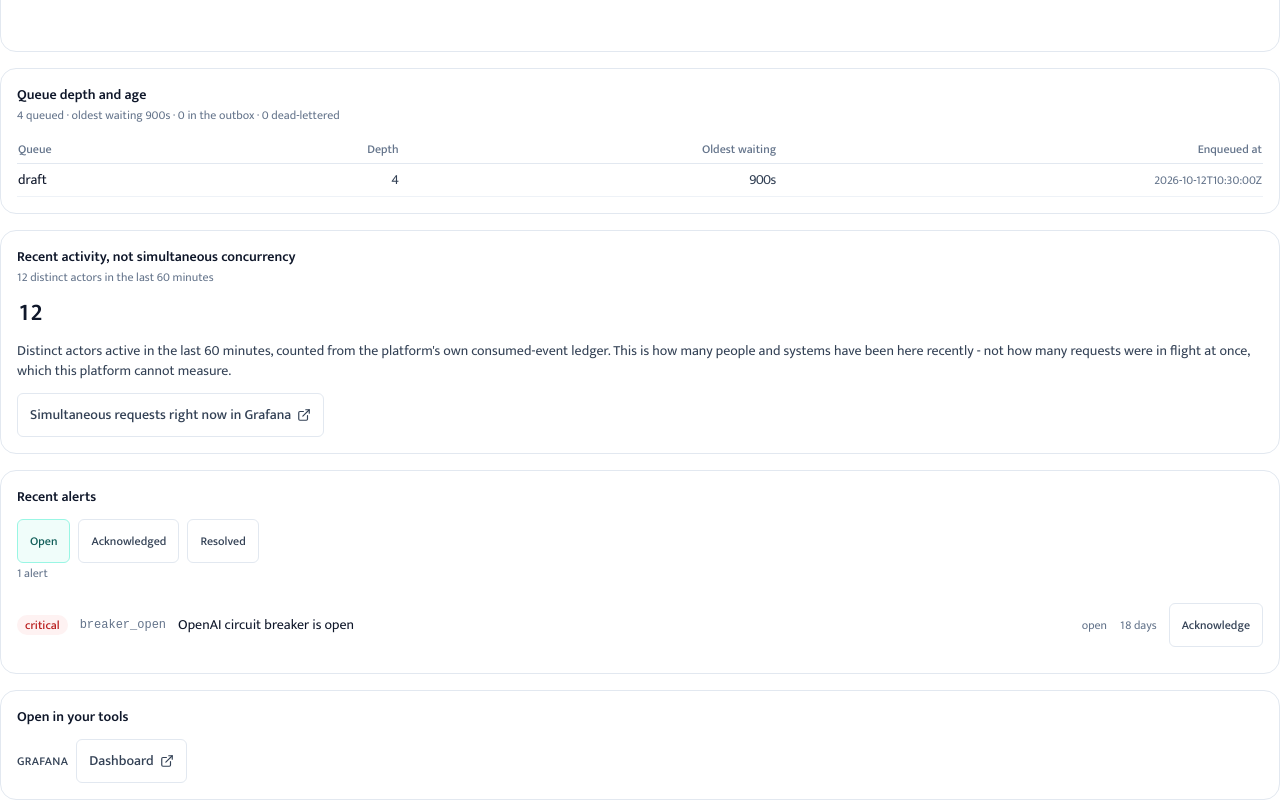
it: ObservabilityReliabilityPage › acknowledges an alert and takes it out of the open list
(page scrolled)
Click the button with test id "observability-alert-alert-1-acknowledge". click: (1216, 625)
box: [1169,603,1263,647]
(page scrolled)
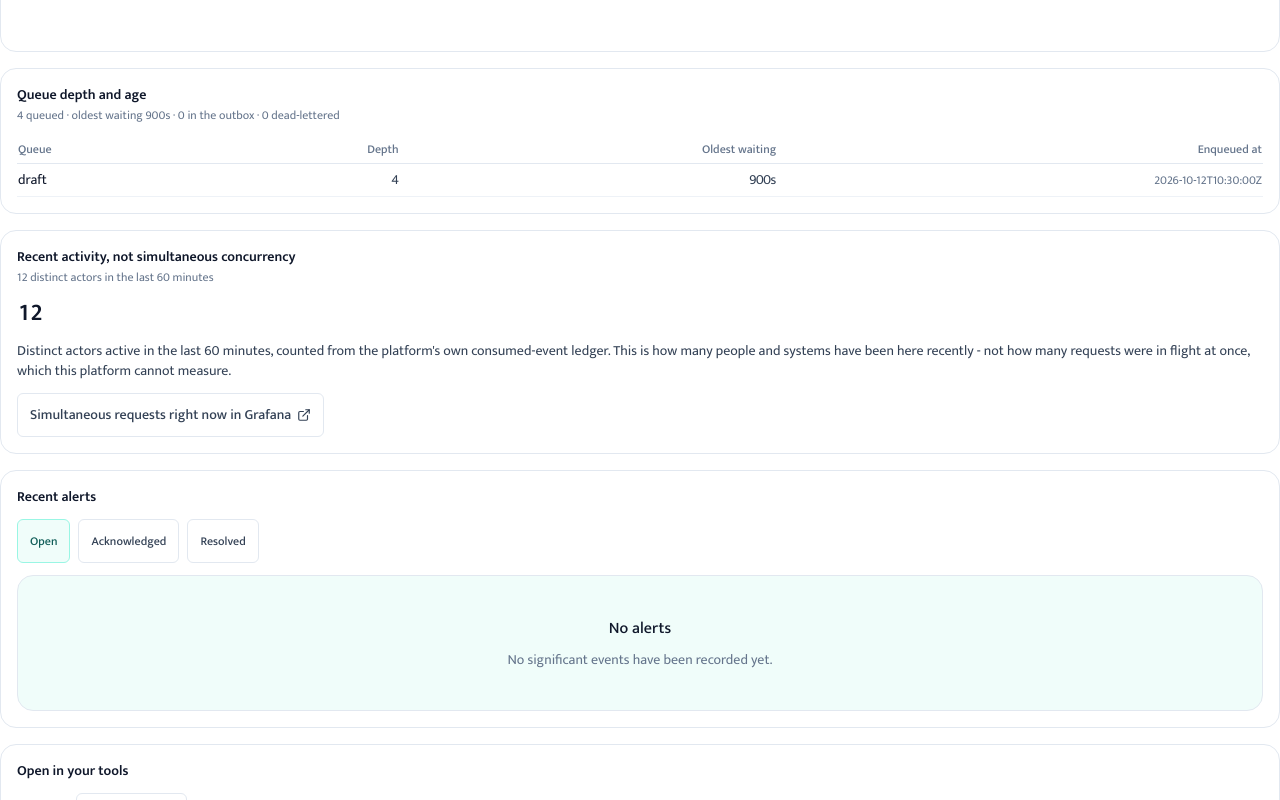
Now the list item with test id "observability-alert-alert-1" is gone
Now the text with test id "empty-state-title" reads "No alerts", box [609,615,671,642]
